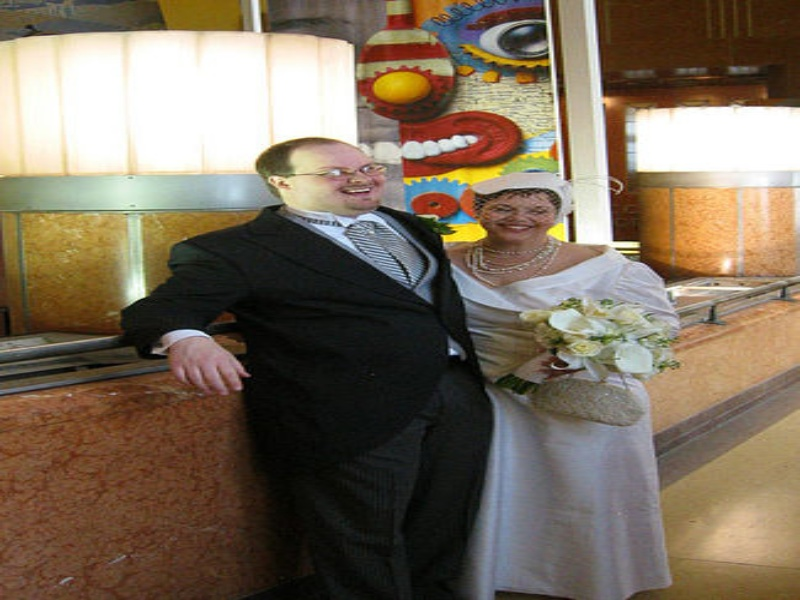person: (120, 137, 494, 600), (445, 171, 677, 600)
